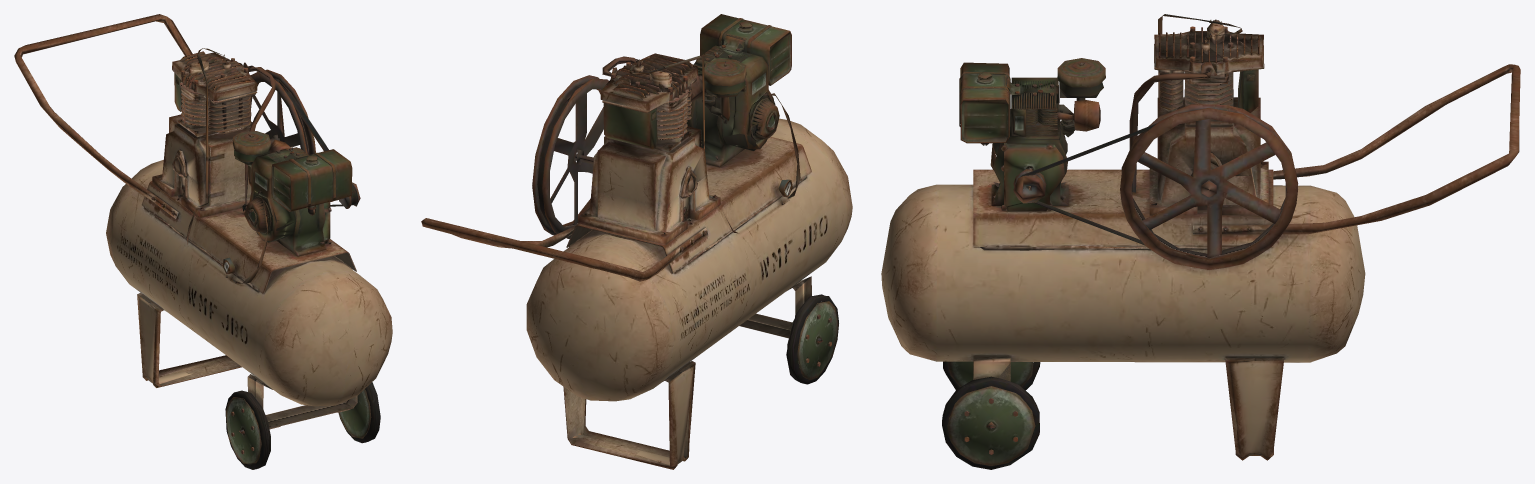
Rendered from old_military_compressor.glb.
3 renders of one model, left to right at view 1: azimuth 30°, elevation 25°; view 2: azimuth 150°, elevation 25°; view 3: azimuth 270°, elevation 25°, orthographic. The views are drawn at different scales.
Visible parts, largest first — view 1: old_military_compressor; view 2: old_military_compressor; view 3: old_military_compressor.
Boxes of the visible parts, bbox=[...] form: old_military_compressor: bbox=[14, 14, 392, 469]; old_military_compressor: bbox=[421, 14, 852, 469]; old_military_compressor: bbox=[881, 14, 1520, 469].
Bounding box in the file's own units: 0.5957 × 1.18 × 1.67.
Materials: 2 (2 with a texture image).
